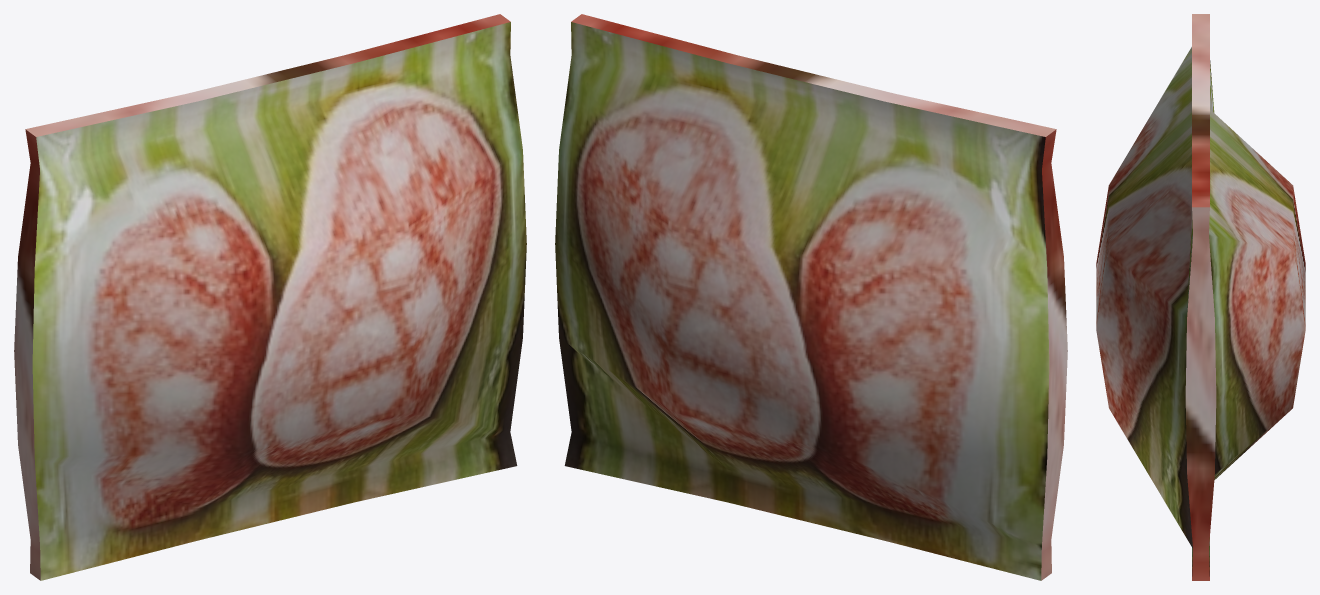
Rendered from SM_sweets_candy_05.fbx.
3 renders of one model, left to right at view 1: azimuth 30°, elevation 25°; view 2: azimuth 150°, elevation 25°; view 3: azimuth 270°, elevation 25°, orthographic. The views are drawn at different scales.
Parts seen in each view (by area): view 1: Plane029; view 2: Plane029; view 3: Plane029.
Boxes of the visible parts, x1,y1,x2,y2 form: Plane029: (14,14,526,580); Plane029: (555,14,1067,580); Plane029: (1096,14,1305,580).
Bounding box in the file's own units: 21.15 × 18.25 × 9.32.
